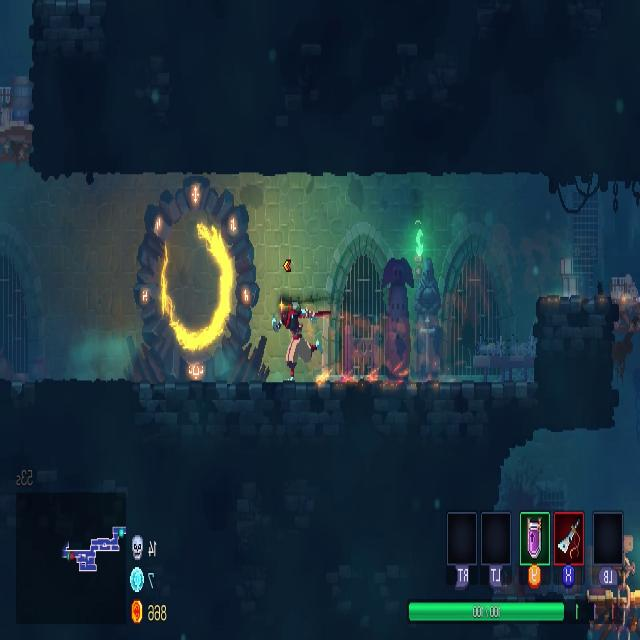agents: (269, 298, 318, 384)
